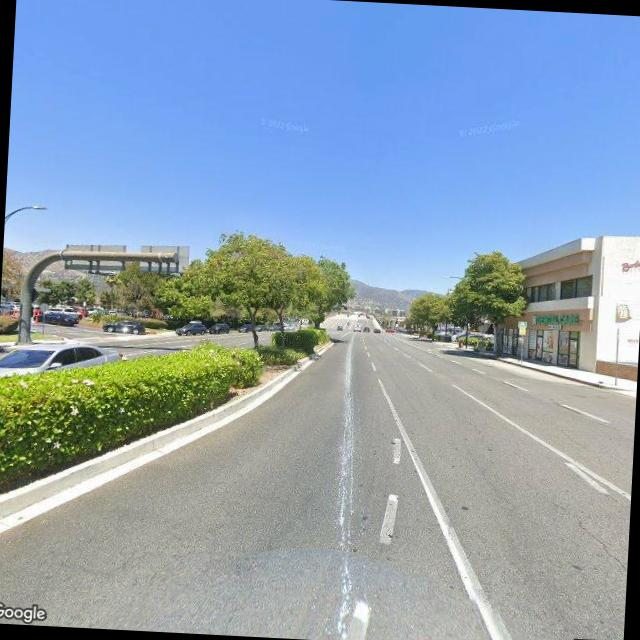pothole: (543, 498, 630, 600)
